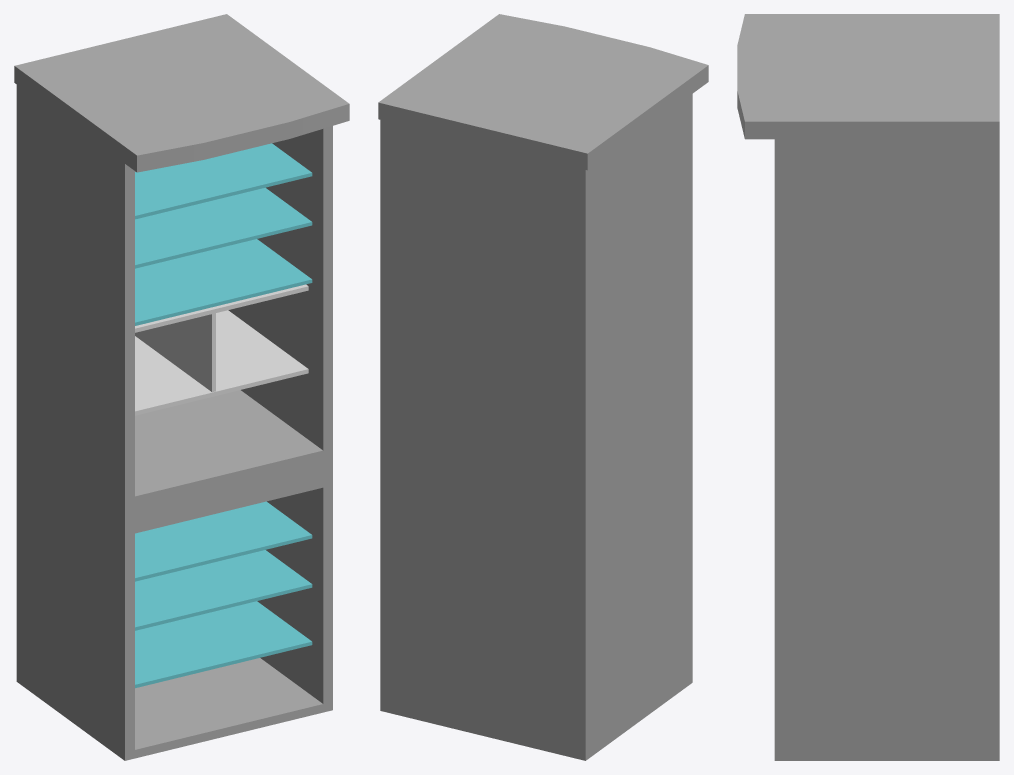
File: Refrigerador.fbx
3 views of the same model, side by side, from view 1: azimuth 30°, elevation 25°; view 2: azimuth 150°, elevation 25°; view 3: azimuth 270°, elevation 25° (orthographic). The views are drawn at different scales.
Visible parts, largest first — view 1: Refrigerador; view 2: Refrigerador; view 3: Refrigerador.
Part boxes in pixels (box(x1,y1,x2,y2)): Refrigerador: box(14, 14, 349, 760); Refrigerador: box(378, 14, 708, 760); Refrigerador: box(737, 14, 999, 760).
Bounding box in the file's own units: 82.34 × 228 × 84.82.
